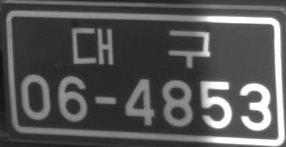0: (19, 72, 50, 120)
3: (238, 82, 272, 131)
4: (124, 78, 155, 125)
5: (198, 78, 233, 128)
6: (57, 75, 88, 121)
8: (161, 79, 193, 125)
대구_D: (71, 26, 211, 69)
